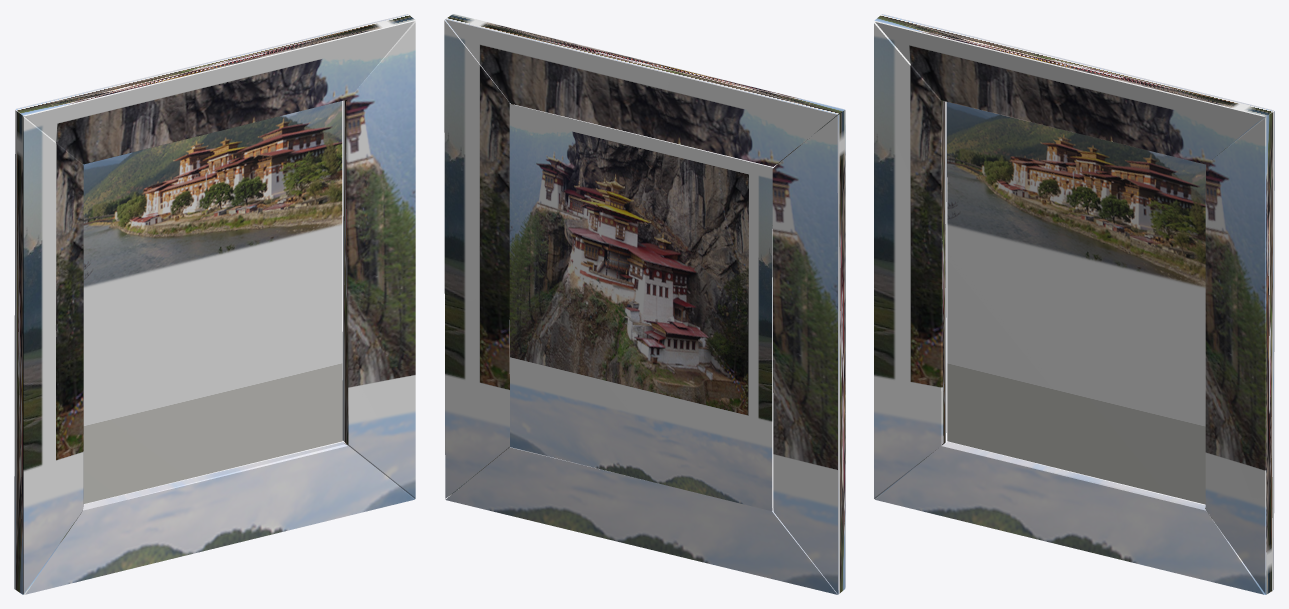
The model's file is Picture 2.FBX.
3 renders of one model, left to right at view 1: azimuth 30°, elevation 25°; view 2: azimuth 150°, elevation 25°; view 3: azimuth 330°, elevation 25°, orthographic.
Visible parts, largest first — view 1: picture2; view 2: picture2; view 3: picture2.
Boxes of the visible parts, x1,y1,x2,y2 form: picture2: (14,14,415,594); picture2: (444,14,845,594); picture2: (874,14,1274,594).
Bounding box in the file's own units: 15.35 × 0.6089 × 17.91.
